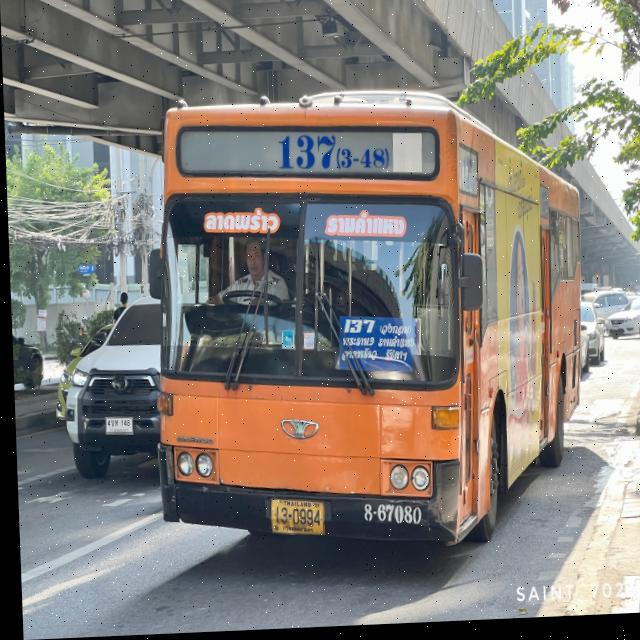BMTA-bus: (154, 96, 581, 553)
Bus Line Number: (270, 128, 392, 180)
Bus Side Number: (357, 501, 422, 536)
Destination Sign: (335, 315, 413, 378)
